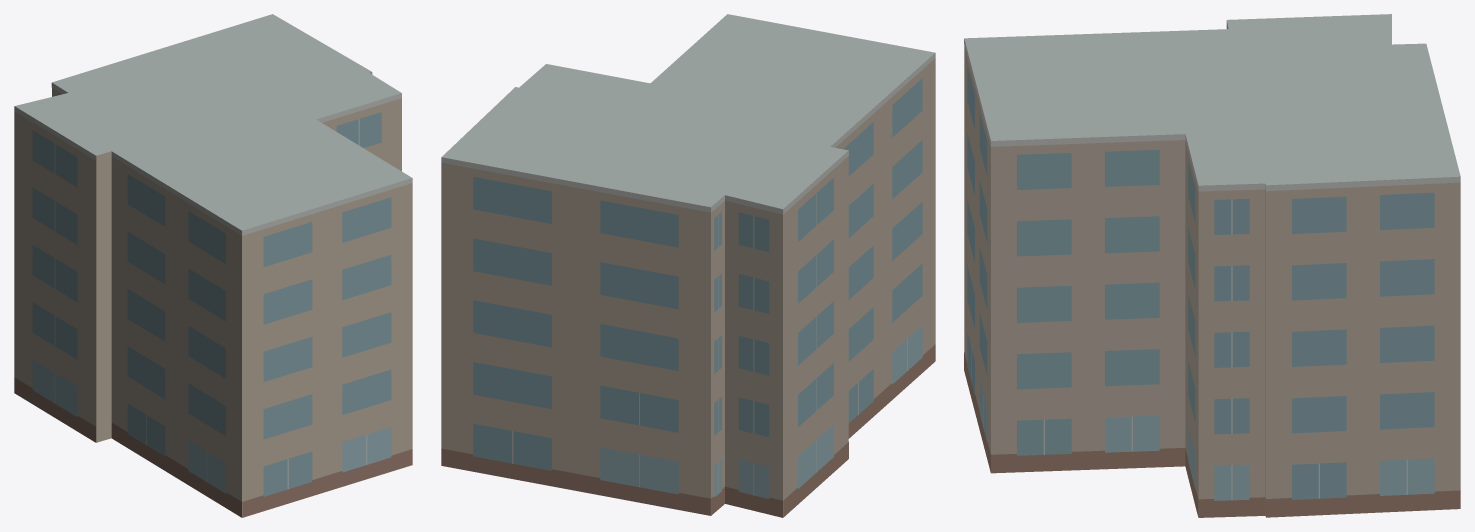
Rendered from survey-upis-32469677.glb.
3 views of the same model, side by side, from view 1: azimuth 30°, elevation 25°; view 2: azimuth 150°, elevation 25°; view 3: azimuth 270°, elevation 25° (orthographic). The views are drawn at different scales.
Parts seen in each view (by area): view 1: survey-upis-32469677.tmp; view 2: survey-upis-32469677.tmp; view 3: survey-upis-32469677.tmp.
Part boxes in pixels (x1,y1,x2,y2): survey-upis-32469677.tmp: (14, 14, 412, 517); survey-upis-32469677.tmp: (441, 14, 935, 517); survey-upis-32469677.tmp: (964, 14, 1460, 517).
Bounding box in the file's own units: 15.3 × 13.8 × 18.7.
